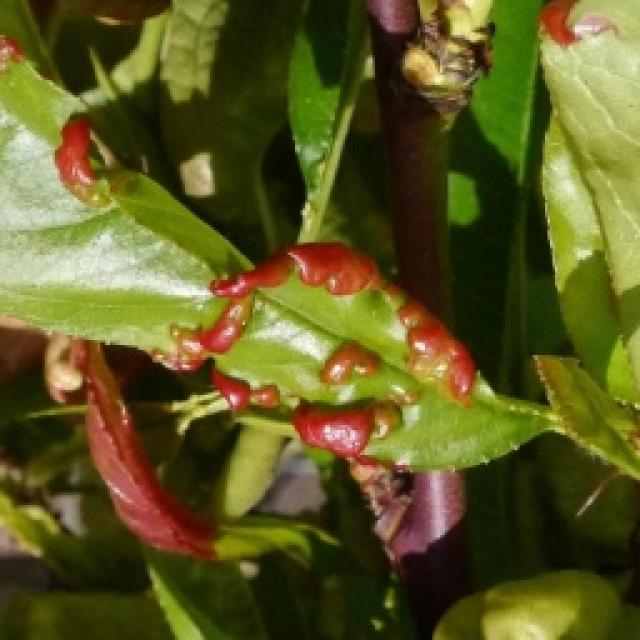peach_leaf_curl: (180, 200, 536, 493)
